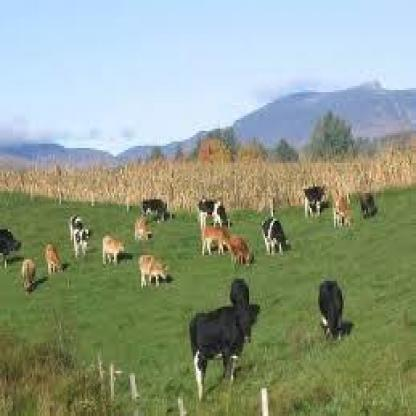cow: (189, 302, 259, 406), (318, 281, 345, 339), (69, 212, 92, 258), (260, 218, 289, 254), (138, 256, 170, 288), (201, 228, 229, 254), (198, 201, 226, 226), (303, 186, 323, 218), (19, 257, 37, 292), (231, 234, 252, 264), (100, 238, 123, 264), (142, 198, 166, 222), (43, 242, 61, 272)
